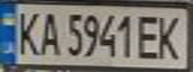1: (115, 11, 136, 58)
4: (100, 10, 121, 58)
5: (63, 9, 84, 57)
9: (78, 10, 100, 57)
A: (36, 8, 63, 56)
E: (136, 11, 163, 60)
K: (154, 11, 187, 61), (12, 8, 42, 56)
